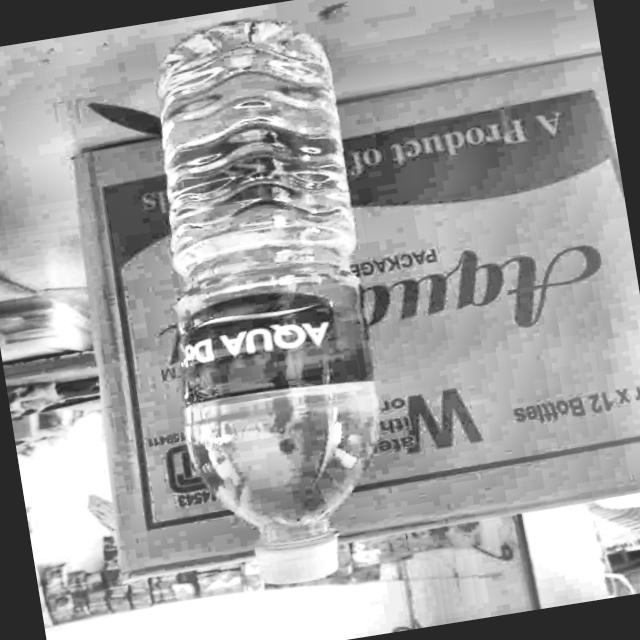waterbottle: (110, 2, 426, 614)
